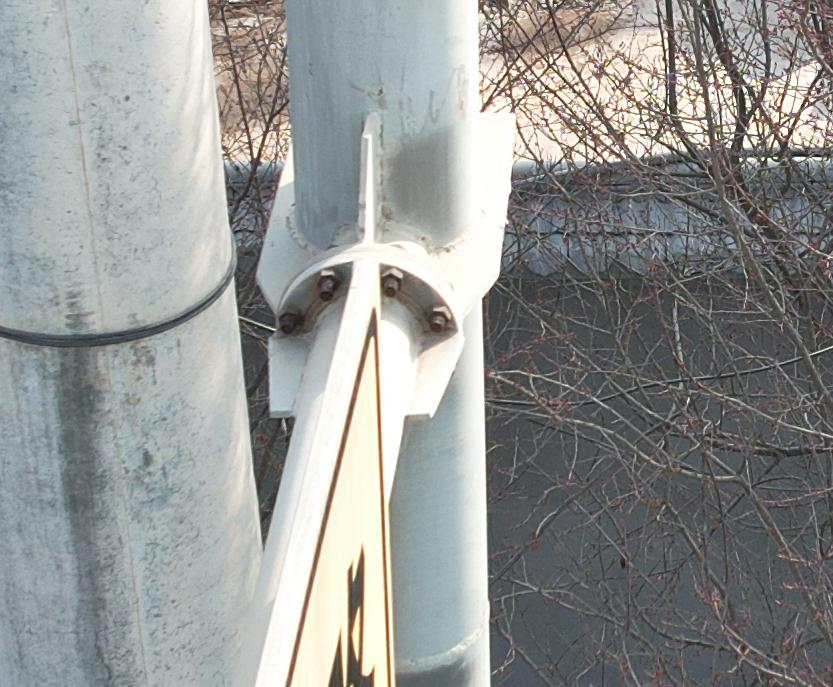vague: (276, 305, 304, 333), (379, 266, 404, 294), (425, 305, 453, 329), (316, 267, 340, 294)
